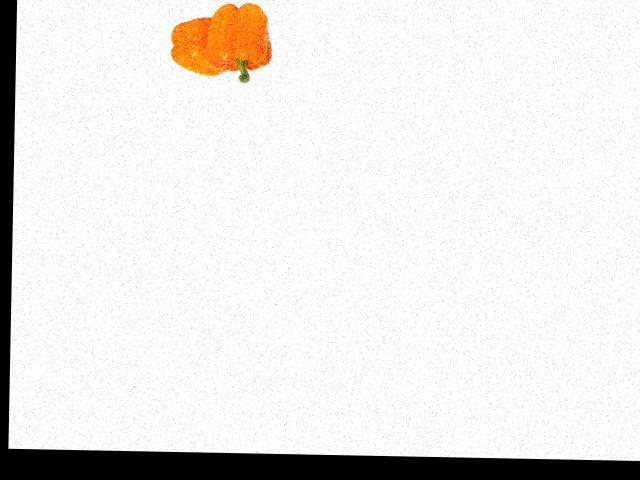bell_pepper: (165, 8, 229, 78)
